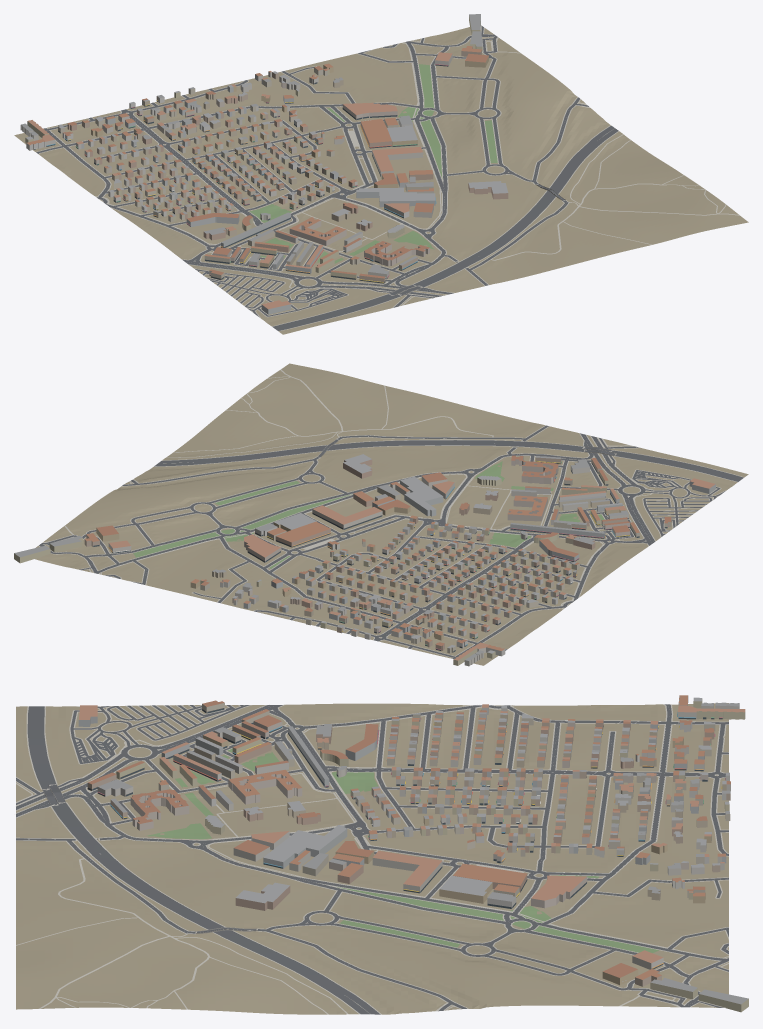
3 views of the same model, one above another, from view 1: azimuth 30°, elevation 25°; view 2: azimuth 150°, elevation 25°; view 3: azimuth 270°, elevation 25° (orthographic). The views are drawn at different scales.
Visible parts, largest first — view 1: Ground, Walls, Road, Roofs, Sidewalk, Park, Detail; view 2: Ground, Walls, Road, Sidewalk, Roofs, Park, Detail; view 3: Ground, Road, Walls, Roofs, Sidewalk, Park, Detail.
Part boxes in pixels (x1=…): Ground: x1=14, y1=27, x2=748, y2=334; Walls: x1=20, y1=15, x2=508, y2=314; Road: x1=36, y1=26, x2=618, y2=330; Roofs: x1=21, y1=14, x2=508, y2=309; Sidewalk: x1=36, y1=25, x2=740, y2=331; Park: x1=249, y1=64, x2=497, y2=263; Detail: x1=34, y1=63, x2=448, y2=283; Ground: x1=34, y1=363, x2=748, y2=665; Walls: x1=14, y1=456, x2=715, y2=666; Road: x1=39, y1=425, x2=743, y2=658; Sidewalk: x1=38, y1=369, x2=743, y2=658; Roofs: x1=14, y1=454, x2=715, y2=660; Park: x1=133, y1=461, x2=604, y2=568; Detail: x1=93, y1=460, x2=671, y2=652; Ground: x1=16, y1=703, x2=728, y2=1014; Road: x1=16, y1=704, x2=728, y2=1014; Walls: x1=78, y1=696, x2=748, y2=1012; Roofs: x1=79, y1=695, x2=748, y2=1004; Sidewalk: x1=16, y1=704, x2=728, y2=1014; Park: x1=146, y1=748, x2=658, y2=953; Detail: x1=88, y1=704, x2=725, y2=969.
Bounding box in the file's own units: 1019 × 26.65 × 1031.
